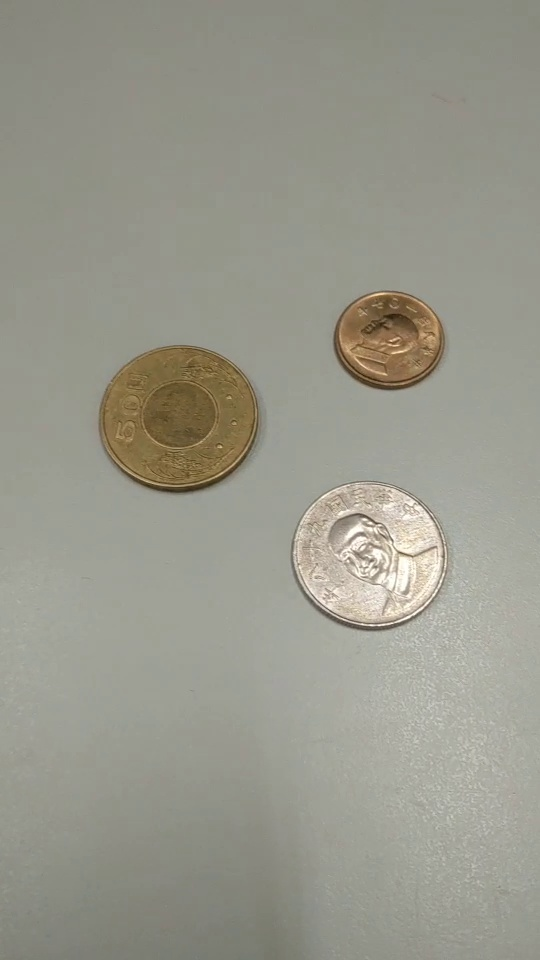NT$ 1: (328, 286, 448, 391)
NT$ 10: (291, 479, 450, 630)
NT$ 50: (98, 346, 261, 495)
